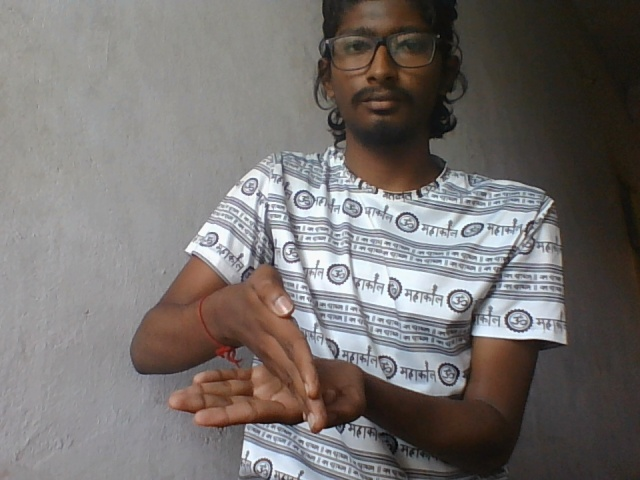Done: (158, 261, 378, 441)
